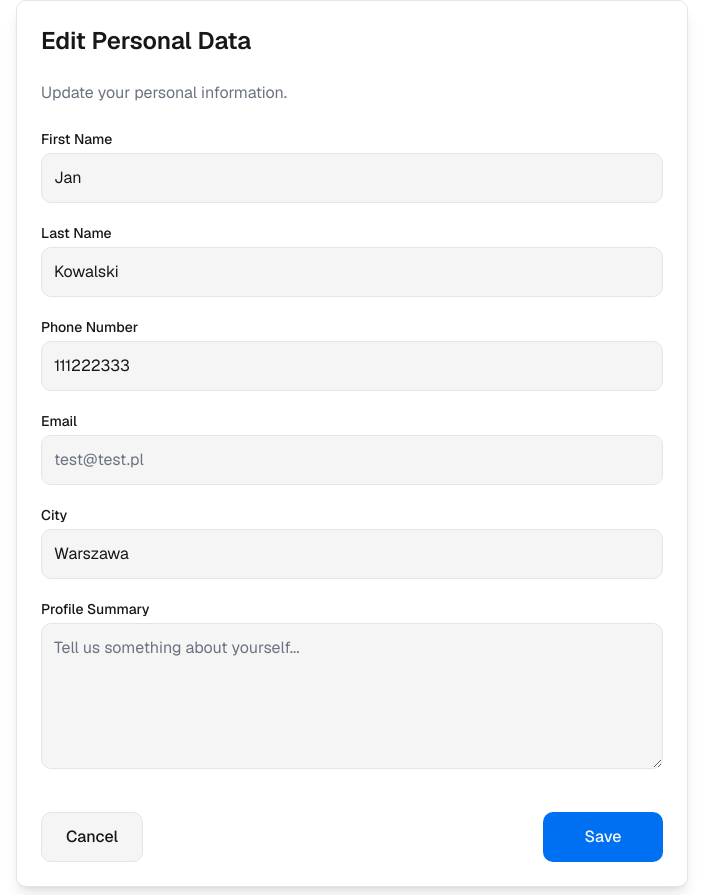
Scenario: EditPersonalForm Component › Walidacja i aktualizacja (PATCH) › powinien poprawnie wysłać żądanie PATCH z wprowadzonymi danymi i przekierować po sukcesie
Replace the text in the field labelled "City" with "Sopot" at x=352, y=554, box [41,529,663,579]
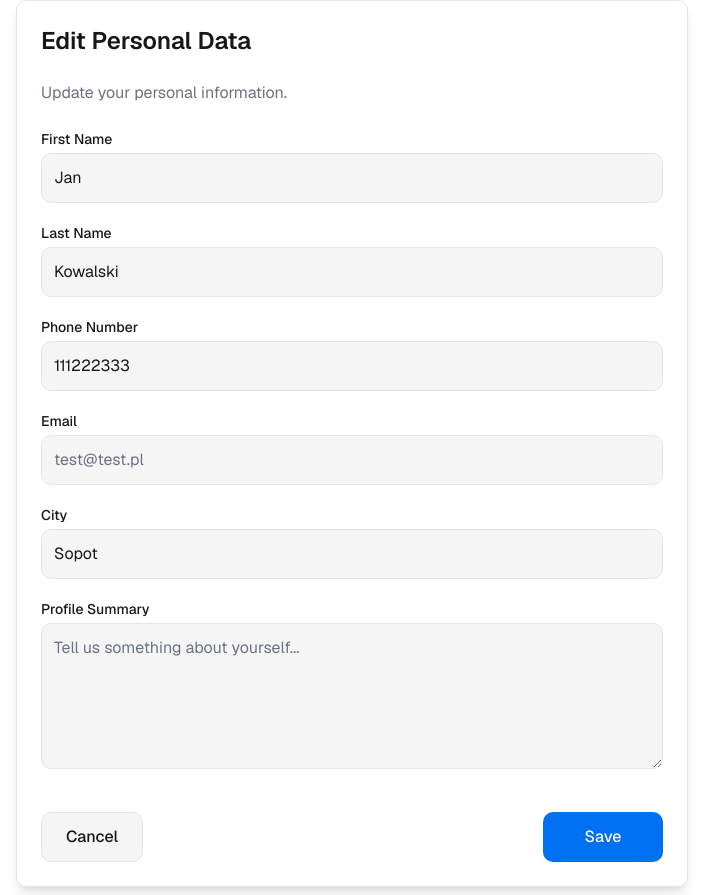
Click the button "Save" at x=603, y=837, box [543,812,663,862]
Wait 1500 ms
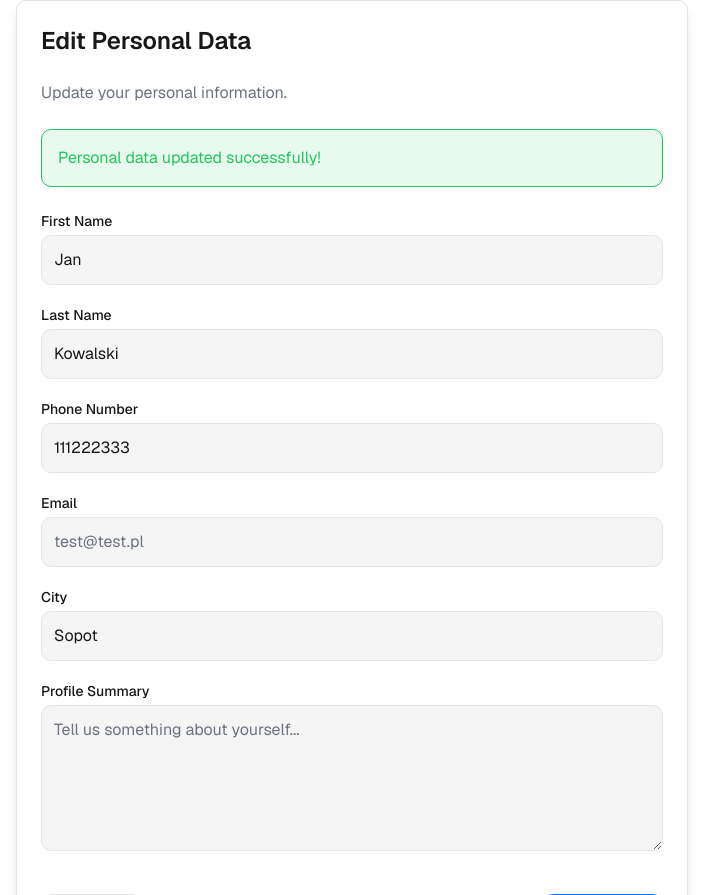
Expected: the text "Personal data updated successfully!" is shown, [41,129,663,187]
